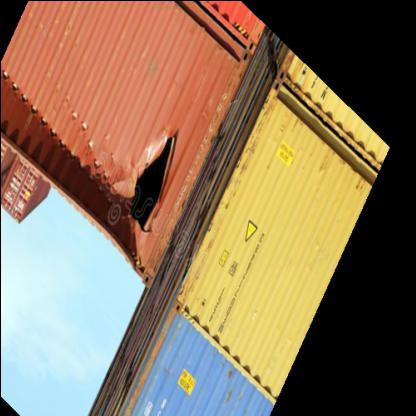Damage: (93, 127, 188, 266)
